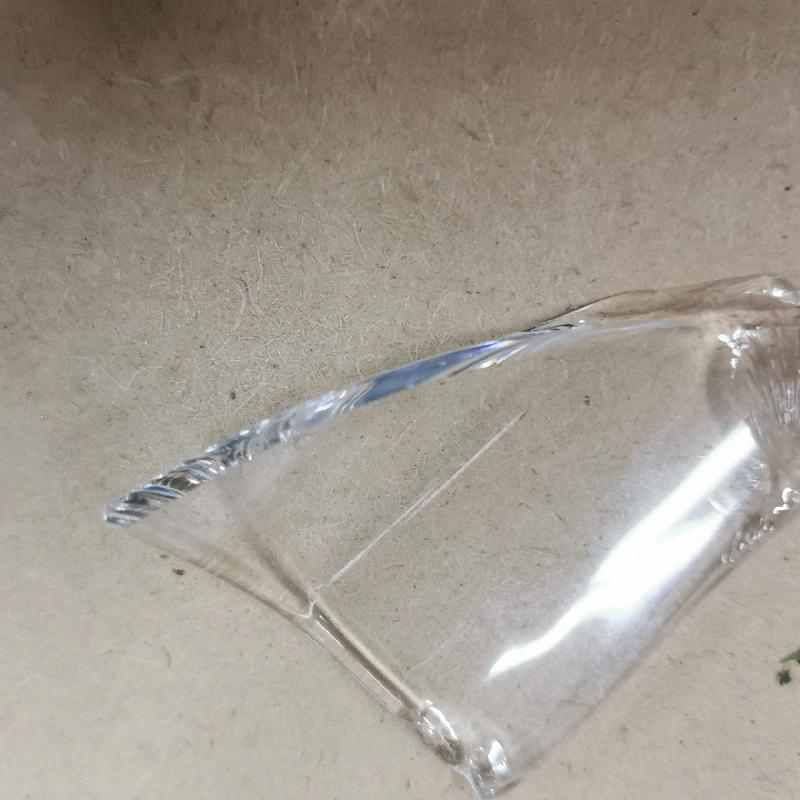glass: (104, 281, 797, 793)
